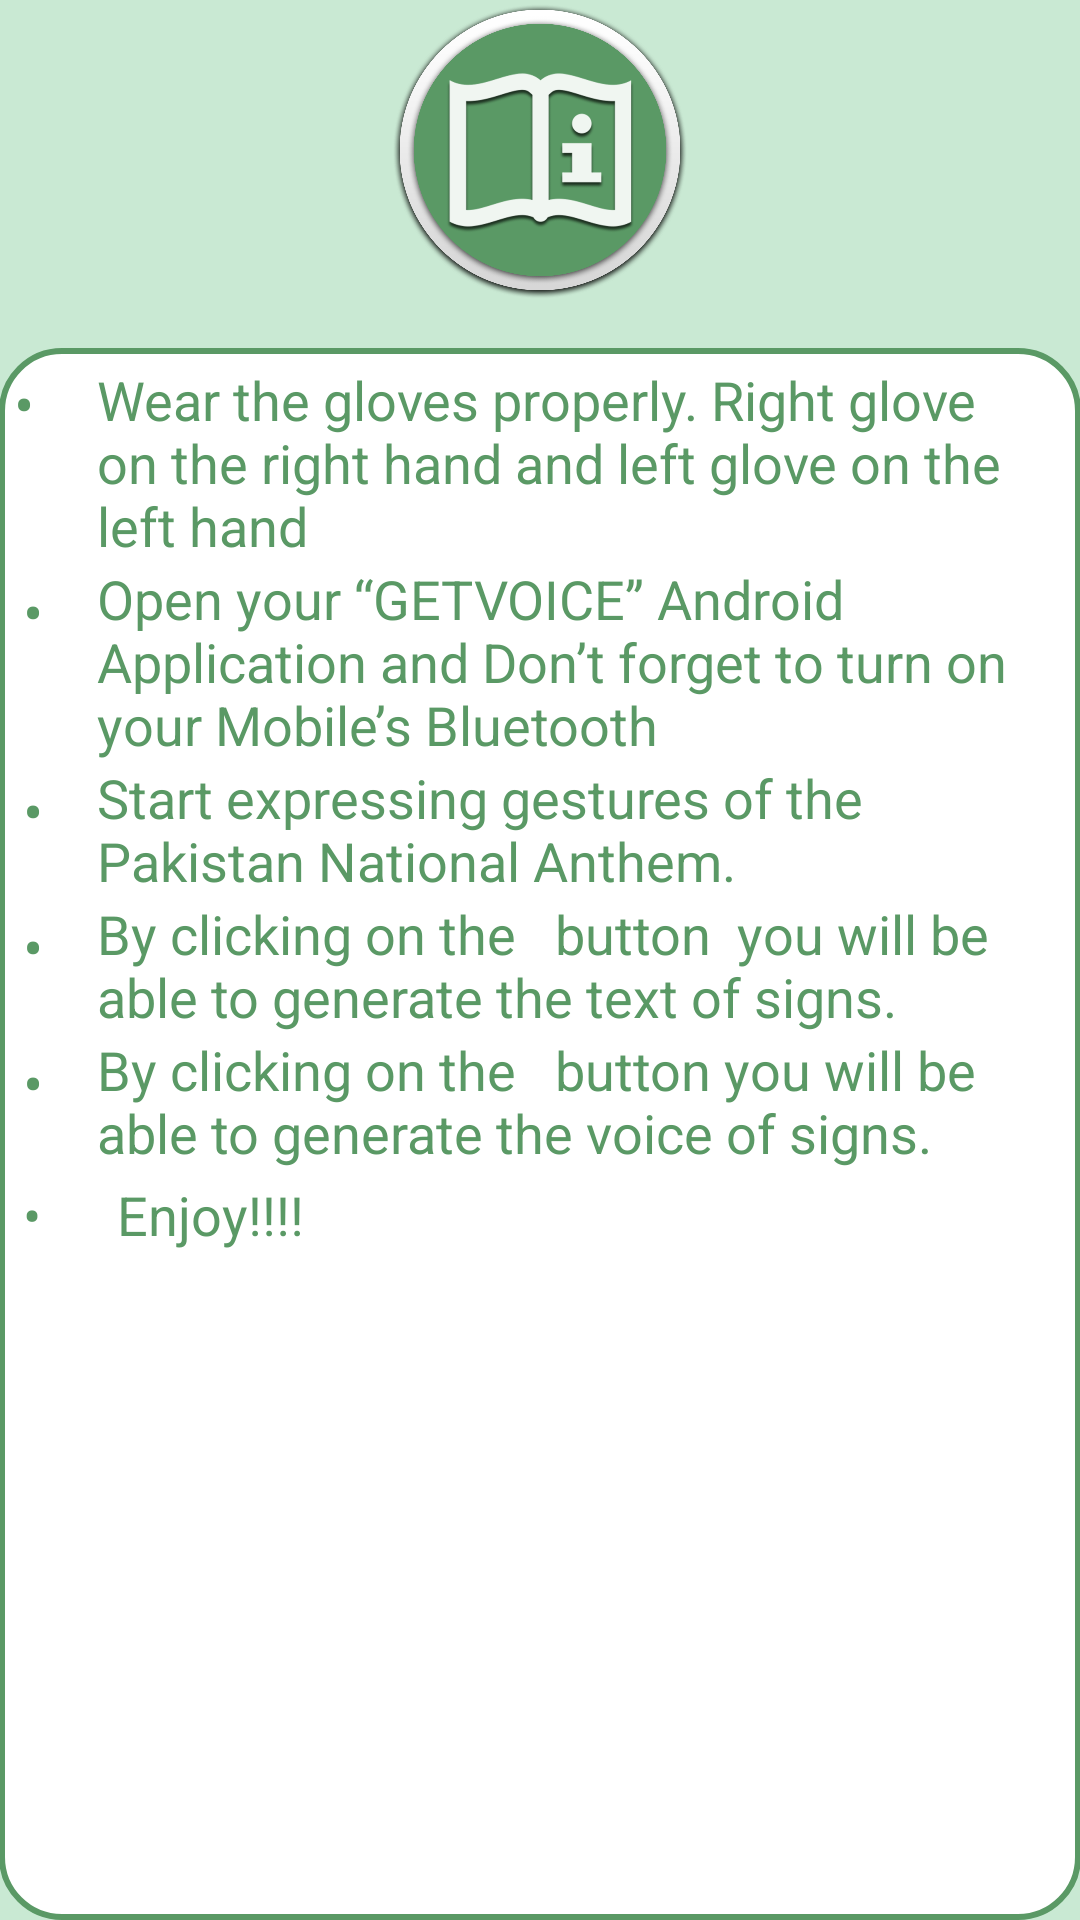

Where icons sit on this 1080 x 1920 app screen, as {"left": x1, "top": y1, "right": x2, "bottom": y2}:
user manual: {"left": 395, "top": 7, "right": 685, "bottom": 296}
